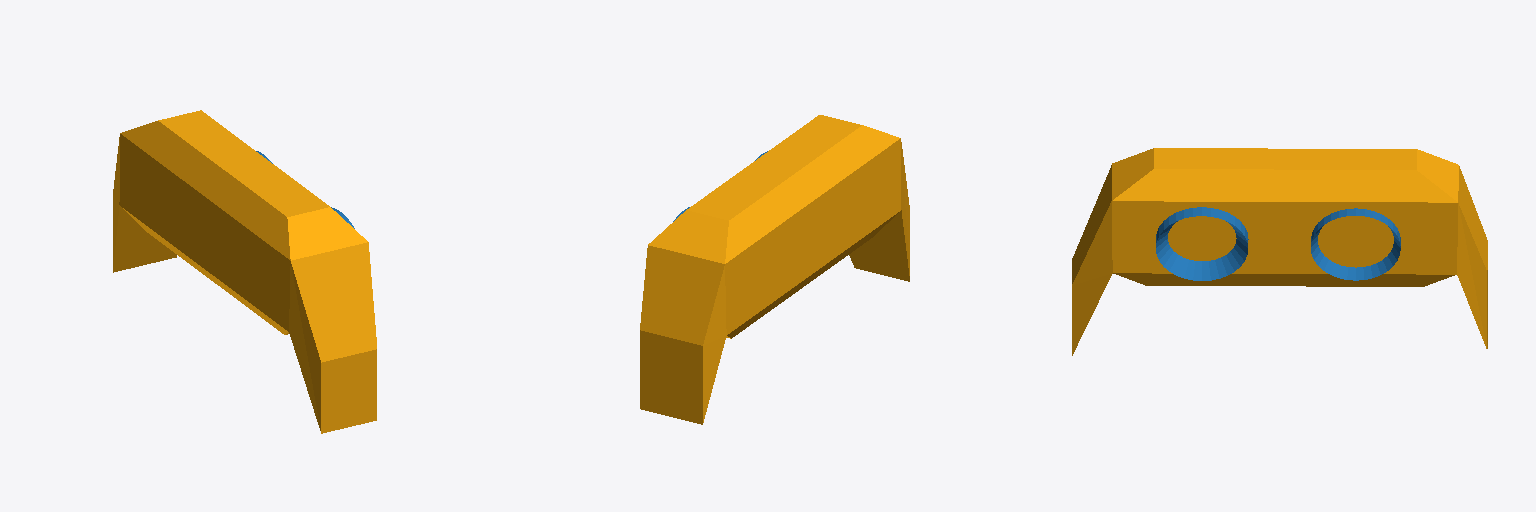
Rendered from floatingSemaphore.obj.
3 views of the same model, side by side, from view 1: azimuth 30°, elevation 25°; view 2: azimuth 150°, elevation 25°; view 3: azimuth 270°, elevation 25° (orthographic).
Parts seen in each view (by area): view 1: Cube; view 2: Cube; view 3: Cube, LuzV_Cube.002, LuzR_Cube.004.
Boxes of the visible parts, x1=… form: Cube: x1=113, y1=110, x2=376, y2=433; Cube: x1=640, y1=115, x2=909, y2=424; Cube: x1=1072, y1=148, x2=1487, y2=355; LuzV_Cube.002: x1=1156, y1=207, x2=1248, y2=280; LuzR_Cube.004: x1=1311, y1=208, x2=1400, y2=280.
Bounding box in the file's own units: 1.2 × 2.12 × 4.31.